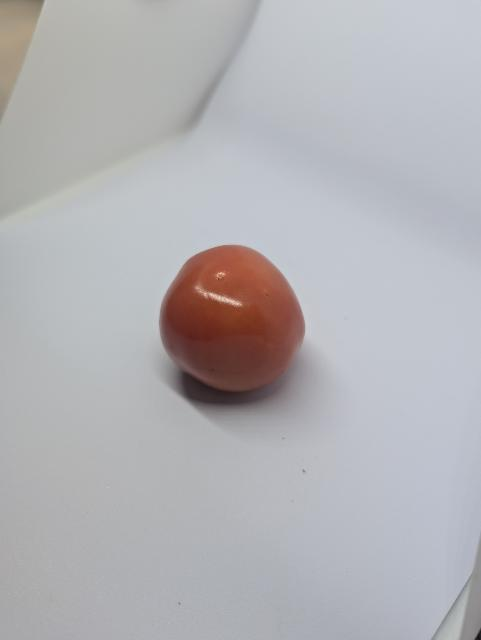red: (149, 233, 336, 411)
